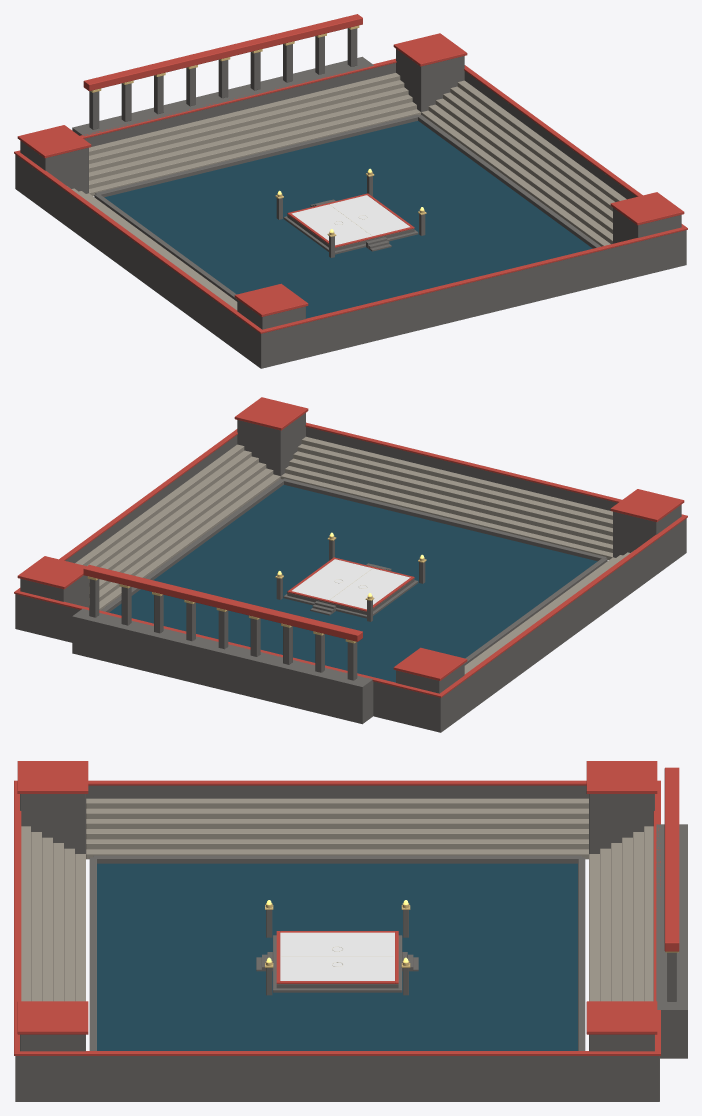
The model's file is arena.glb.
The picture shows the model from 3 angles, top to bottom: view 1: azimuth 30°, elevation 25°; view 2: azimuth 150°, elevation 25°; view 3: azimuth 270°, elevation 25°; orthographic projection. The views are drawn at different scales.
Visible parts, largest first — view 1: Agua_RingOut, Grada_Muro_S, Grada_Muro_O, Dintel_Fondo, Grada_Muro_N, Ring_Superficie, Columnata_Base, Grada_N_1, Grada_N_2, Grada_N_3, Grada_N_4, Grada_N_5 (+25 smaller); view 2: Agua_RingOut, Columnata_Base, Grada_Muro_O, Grada_Muro_N, Dintel_Fondo, Grada_Muro_S, Ring_Superficie, Grada_S_1, Grada_S_2, Grada_S_3, Grada_S_4, Grada_S_5 (+26 smaller); view 3: Agua_RingOut, Grada_Muro_E, Grada_Muro_O, Ring_Superficie, Grada_O_1, Grada_O_2, Grada_O_4, Grada_O_5, Columnata_Base, Grada_O_3, Muro_O, Grada_O_0 (+29 smaller).
Boxes of the visible parts, left/top/right/bottom form: Agua_RingOut: left=104, top=121, right=592, bottom=318; Grada_Muro_S: left=260, top=230, right=686, bottom=368; Grada_Muro_O: left=15, top=154, right=263, bottom=368; Dintel_Fondo: left=83, top=14, right=362, bottom=91; Grada_Muro_N: left=84, top=63, right=395, bottom=146; Ring_Superficie: left=291, top=195, right=409, bottom=245; Columnata_Base: left=72, top=56, right=374, bottom=136; Grada_N_1: left=89, top=102, right=416, bottom=188; Grada_N_2: left=89, top=94, right=412, bottom=180; Grada_N_3: left=89, top=87, right=408, bottom=172; Grada_N_4: left=89, top=80, right=404, bottom=163; Grada_N_5: left=89, top=73, right=400, bottom=155; Agua_RingOut: left=109, top=485, right=597, bottom=682; Columnata_Base: left=72, top=608, right=373, bottom=724; Grada_Muro_O: left=438, top=518, right=686, bottom=731; Grada_Muro_N: left=15, top=594, right=442, bottom=732; Dintel_Fondo: left=83, top=564, right=362, bottom=641; Grada_Muro_S: left=306, top=427, right=617, bottom=510; Ring_Superficie: left=292, top=559, right=410, bottom=609; Grada_S_1: left=285, top=466, right=612, bottom=552; Grada_S_2: left=289, top=458, right=612, bottom=544; Grada_S_3: left=293, top=451, right=612, bottom=536; Grada_S_4: left=297, top=444, right=612, bottom=527; Grada_S_5: left=301, top=436, right=612, bottom=519; Agua_RingOut: left=97, top=863, right=577, bottom=1050; Grada_Muro_E: left=15, top=1056, right=659, bottom=1101; Grada_Muro_O: left=86, top=785, right=588, bottom=798; Ring_Superficie: left=280, top=932, right=394, bottom=980; Grada_O_1: left=86, top=839, right=588, bottom=849; Grada_O_2: left=86, top=829, right=588, bottom=839; Grada_O_4: left=86, top=808, right=588, bottom=818; Grada_O_5: left=86, top=798, right=588, bottom=808; Columnata_Base: left=656, top=824, right=687, bottom=1058; Grada_O_3: left=86, top=819, right=588, bottom=828; Muro_O: left=93, top=855, right=581, bottom=863; Grada_O_0: left=86, top=849, right=588, bottom=859.
Size of what is drawn, in the model's own units: 53 by 10 by 55.2.
